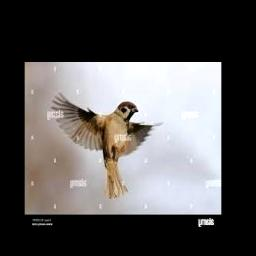Sparrow: (52, 92, 163, 199)
